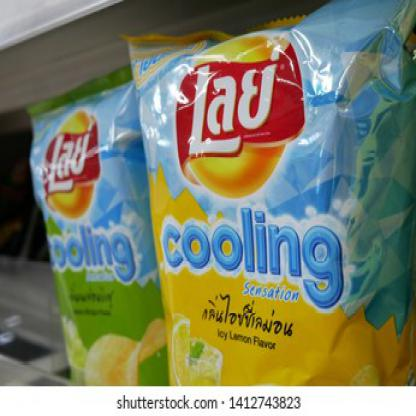potatochip: (115, 0, 415, 415), (20, 54, 202, 414)
